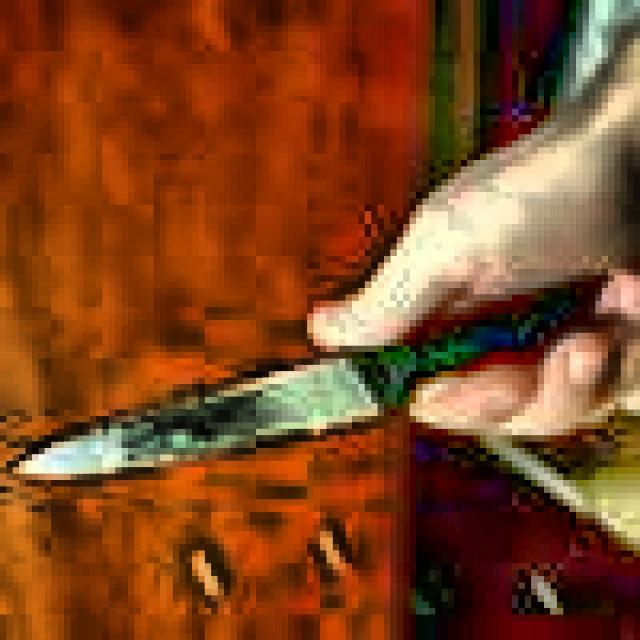knife: (19, 277, 607, 482)
